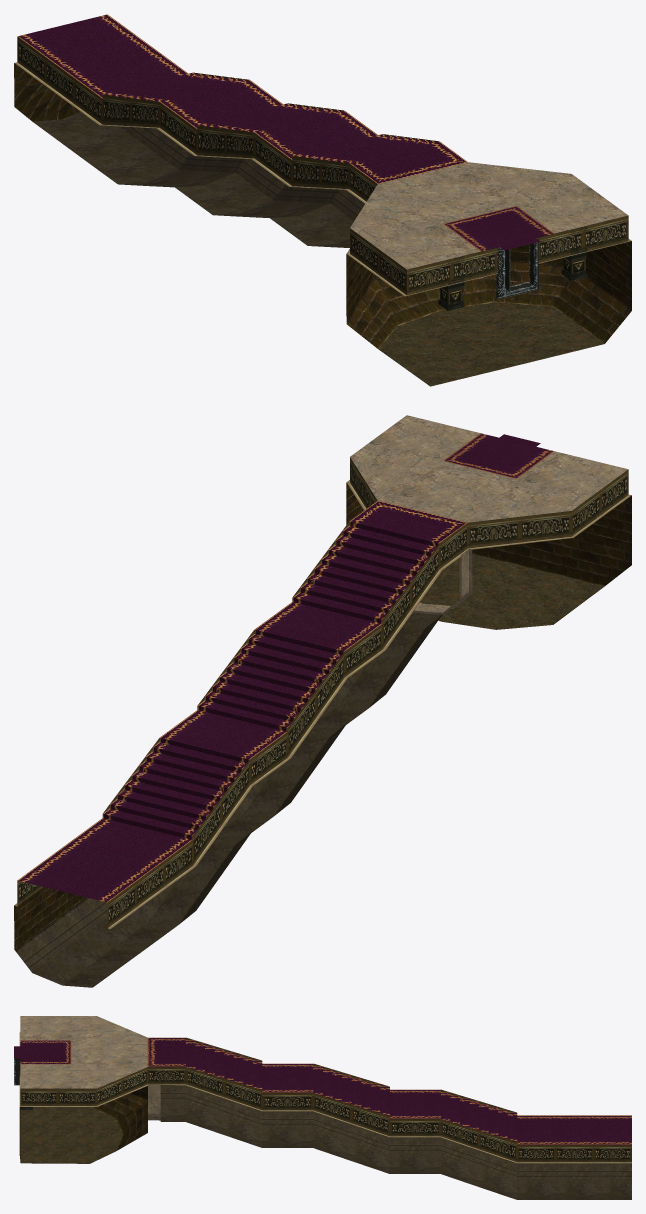
3 views of the same model, one above another, from view 1: azimuth 30°, elevation 25°; view 2: azimuth 150°, elevation 25°; view 3: azimuth 270°, elevation 25° (orthographic). The views are drawn at different scales.
Visible parts, largest first — view 1: node-00CF7E43, node-0215864C, node-01A6F377, node-03E0A92A, node-034B7062, node-02C1B8B2, node-02DE8F33, node-02E5F27A; view 2: node-00CF7E43, node-01A6F377, node-0215864C, node-03E0A92A, node-034B7062, node-02C1B8B2; view 3: node-01A6F377, node-00CF7E43, node-0215864C, node-03E0A92A, node-02C1B8B2, node-034B7062.
Part boxes in pixels (<box>): node-00CF7E43: <box>17,14,554,251</box>; node-0215864C: <box>14,37,631,296</box>; node-01A6F377: <box>33,112,364,247</box>; node-03E0A92A: <box>350,162,628,269</box>; node-034B7062: <box>14,63,631,349</box>; node-02C1B8B2: <box>378,302,604,386</box>; node-02DE8F33: <box>438,226,587,310</box>; node-02E5F27A: <box>496,237,538,299</box>; node-00CF7E43: <box>17,433,554,902</box>; node-01A6F377: <box>15,612,442,987</box>; node-0215864C: <box>14,457,631,928</box>; node-03E0A92A: <box>350,415,627,614</box>; node-034B7062: <box>14,482,631,949</box>; node-02C1B8B2: <box>420,554,604,629</box>; node-01A6F377: <box>160,1085,631,1199</box>; node-00CF7E43: <box>14,1037,631,1144</box>; node-0215864C: <box>19,1032,631,1163</box>; node-03E0A92A: <box>20,1016,160,1120</box>; node-02C1B8B2: <box>20,1107,122,1163</box>; node-034B7062: <box>19,1086,147,1162</box>.
Size of the model in its own units: 218 by 192 by 764.
9 materials, 9 textured.
